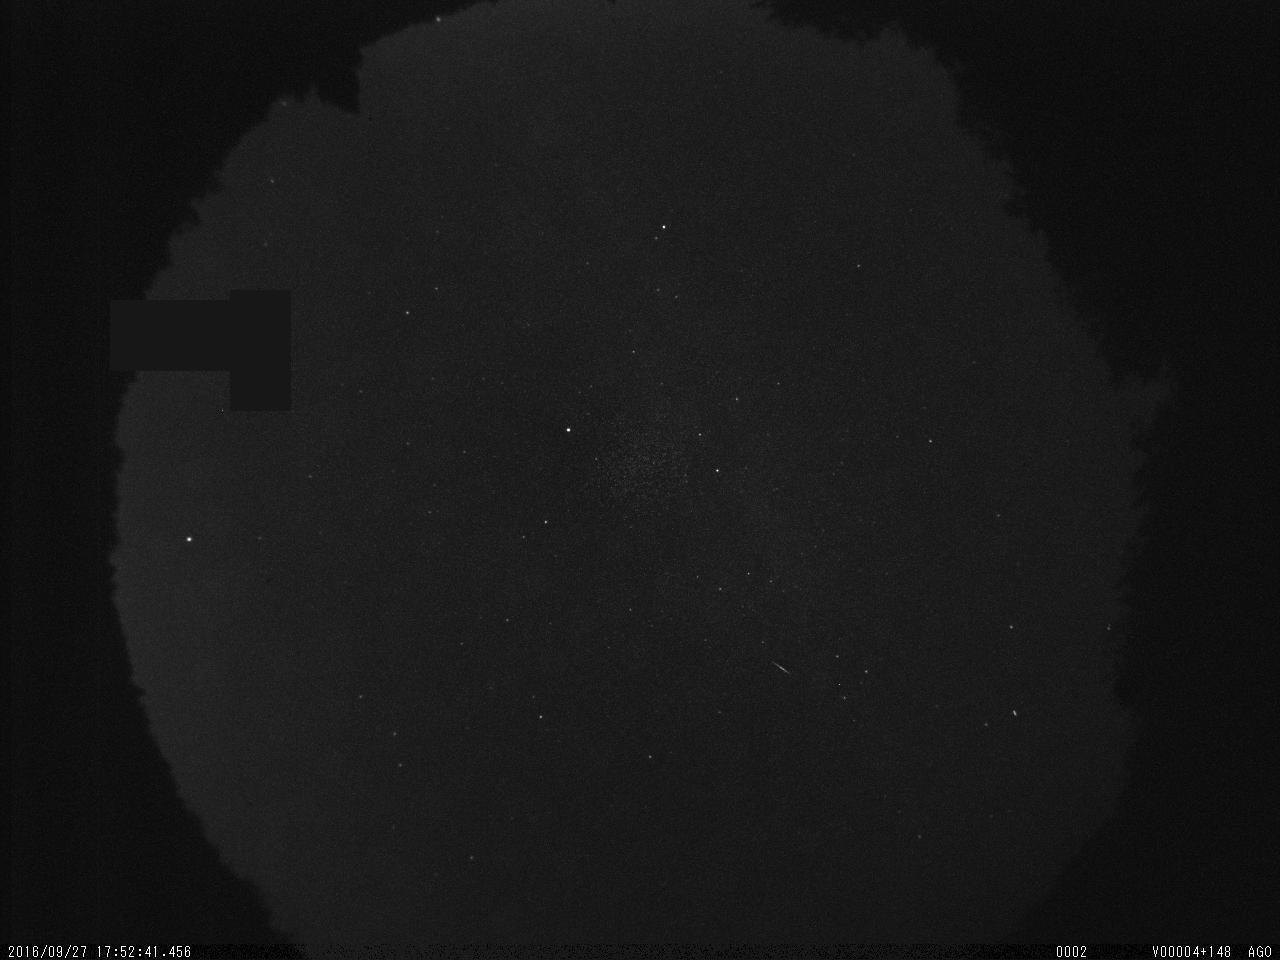Meteor: (768, 656, 795, 679)
